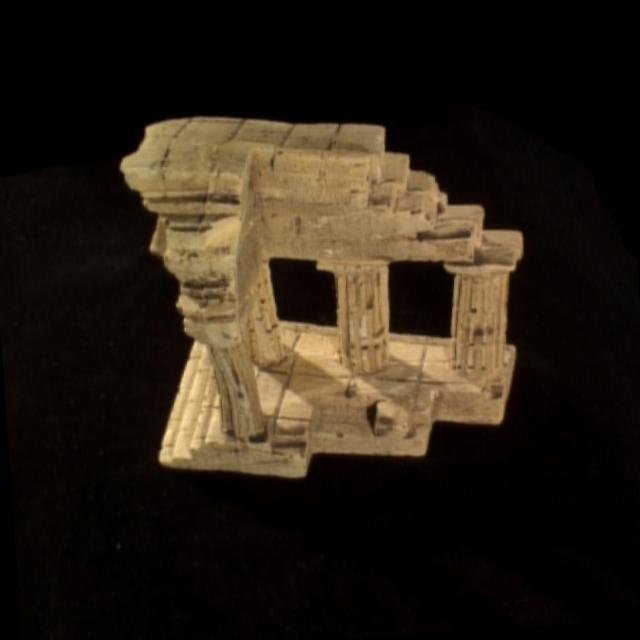Instance-Segmentation: (120, 117, 520, 476)
